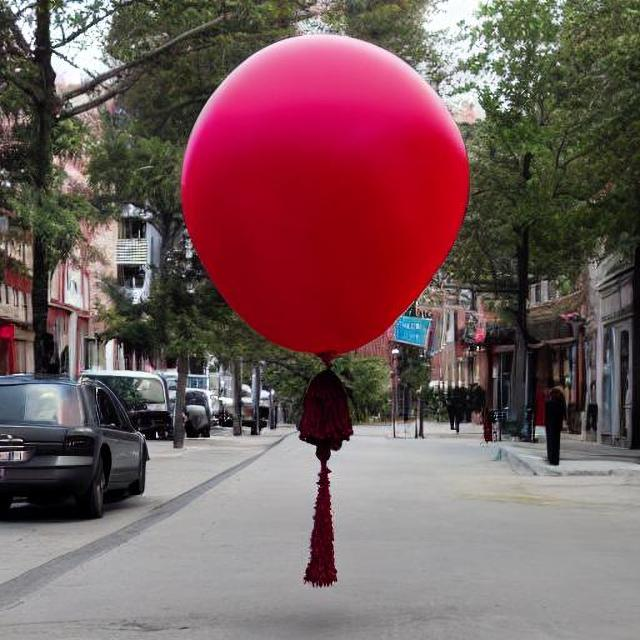balloon: (173, 27, 469, 376)
